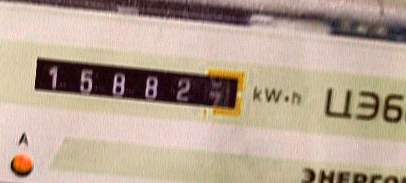1: (46, 64, 63, 90)
2: (176, 76, 193, 101)
5: (78, 66, 97, 94)
7: (208, 88, 224, 108)
8: (110, 71, 129, 98), (143, 73, 161, 100)
screen: (18, 40, 257, 128)
